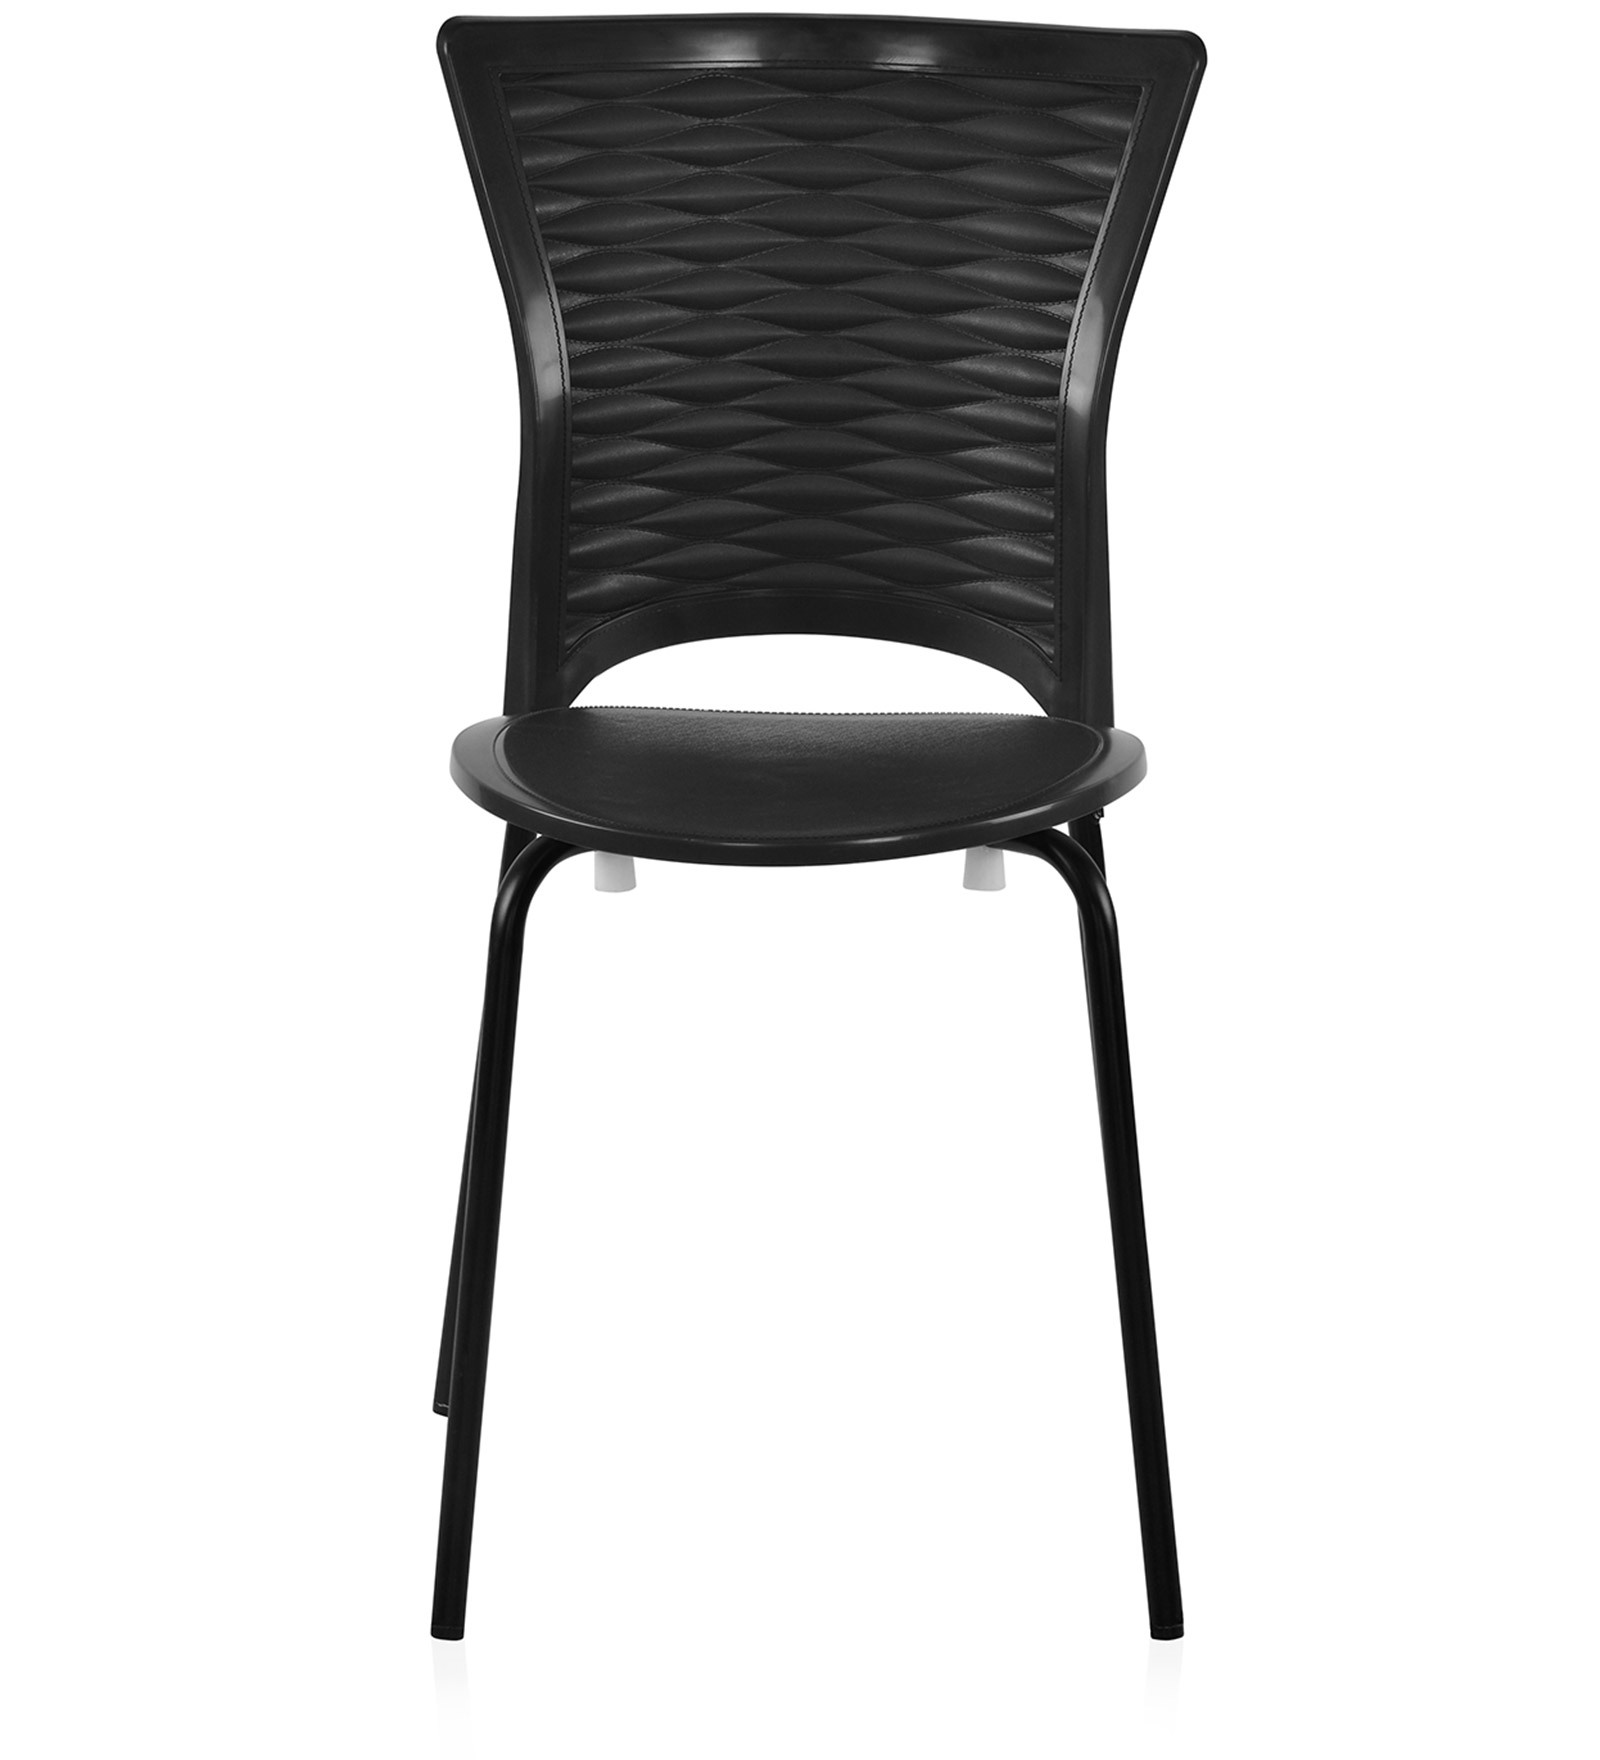Novella Series - 14 Chair (Set of 2) in Black Colour by Nilkamal: (421, 8, 1192, 1643)
